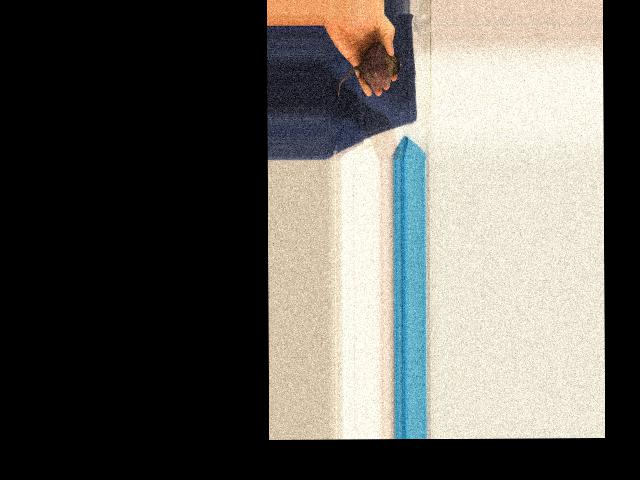beet: (337, 43, 401, 98)
